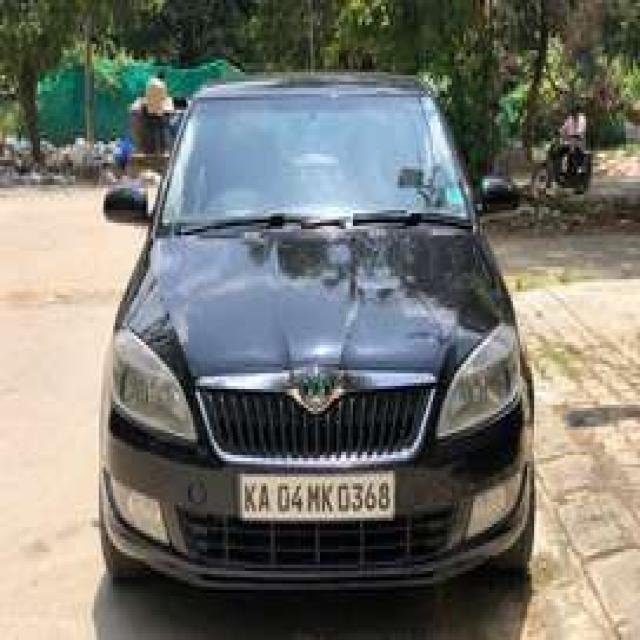licenseplate: (232, 465, 402, 543)
